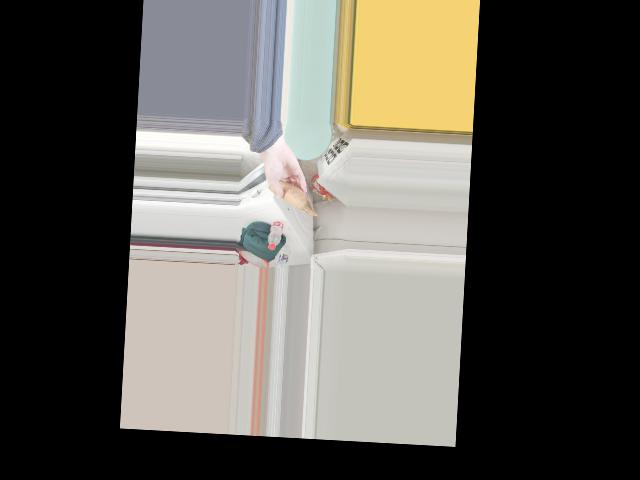sweet_potato: (272, 175, 306, 209)
